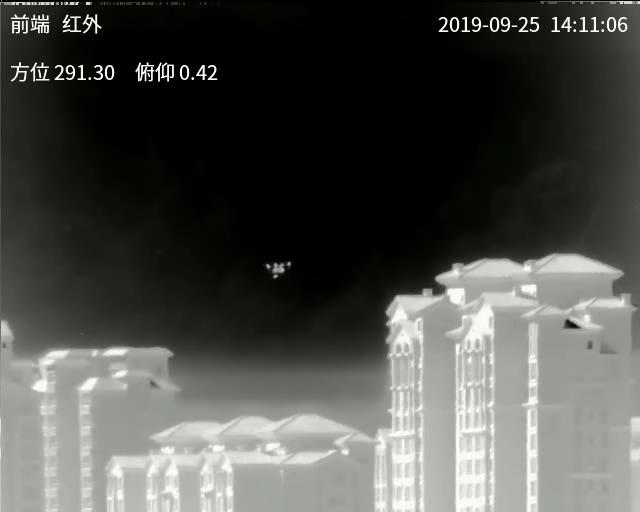uav: (263, 257, 292, 281)
